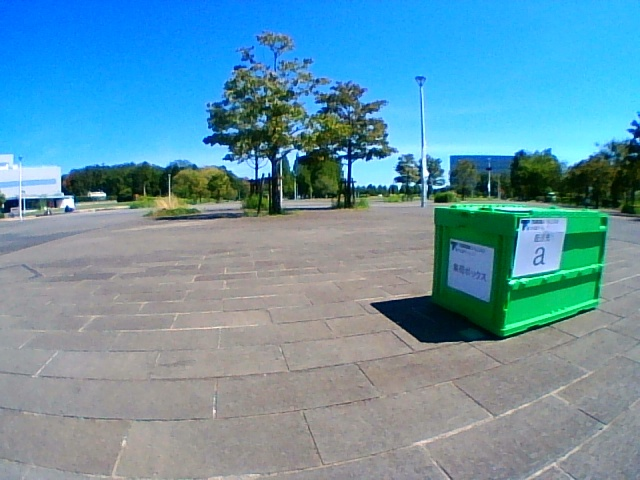green_box: (431, 205, 609, 304)
tag_a: (523, 223, 555, 270)
